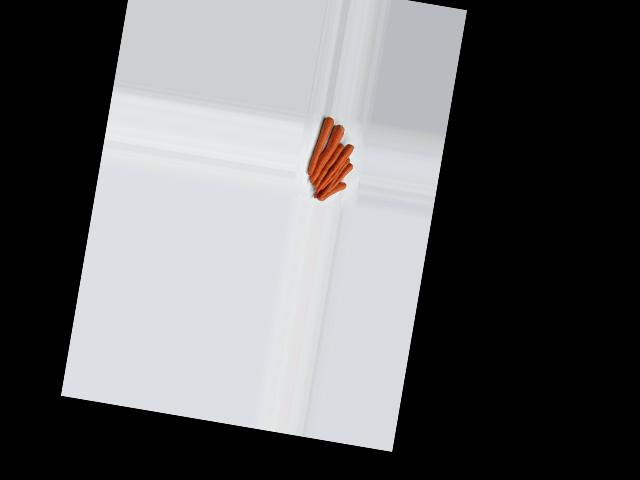carrot: (314, 180, 351, 207)
